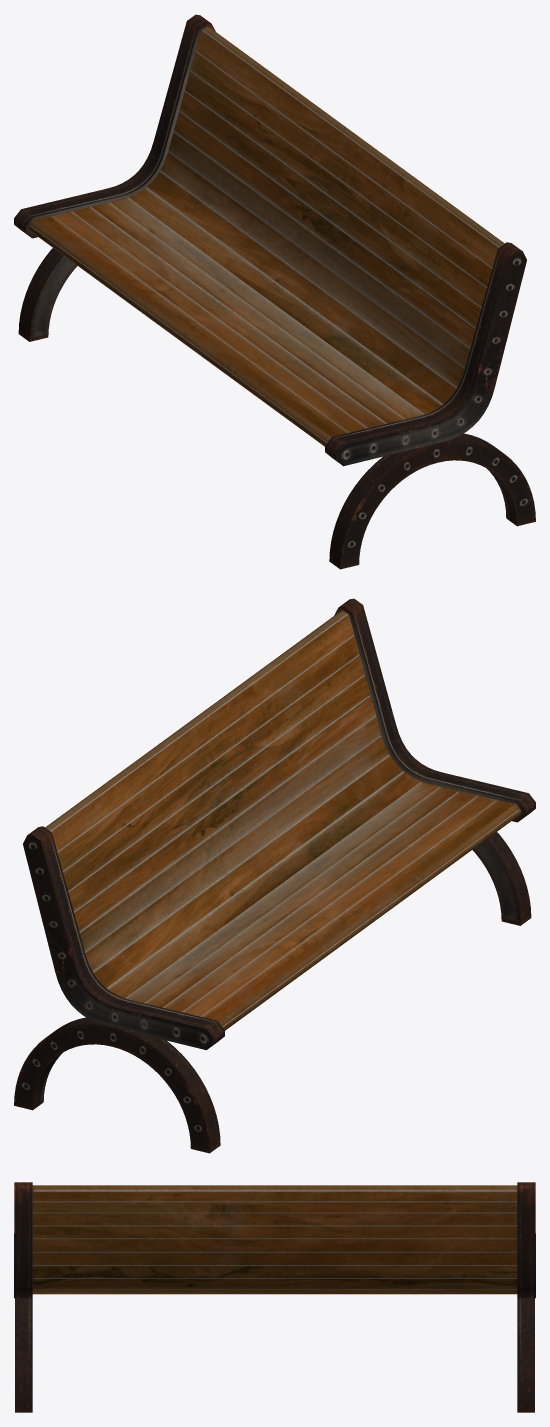
File: SM_Bench01.FBX
3 views of the same model, one above another, from view 1: azimuth 30°, elevation 25°; view 2: azimuth 150°, elevation 25°; view 3: azimuth 270°, elevation 25° (orthographic). The views are drawn at different scales.
Parts seen in each view (by area): view 1: SM_Bench01; view 2: SM_Bench01; view 3: SM_Bench01.
Boxes of the visible parts, bbox=[...] form: SM_Bench01: bbox=[14, 14, 535, 569]; SM_Bench01: bbox=[14, 598, 535, 1153]; SM_Bench01: bbox=[14, 1182, 535, 1412].
Size of the model in its own units: 77.02 by 215 by 102.
